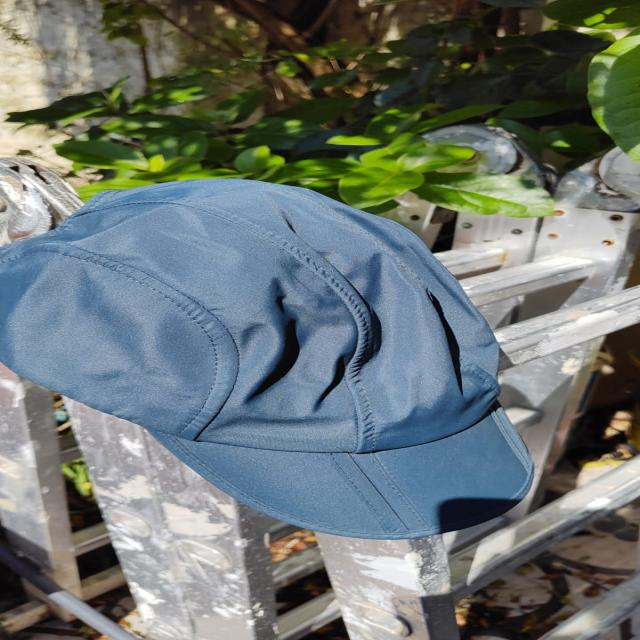Gorra: (0, 175, 552, 544)
